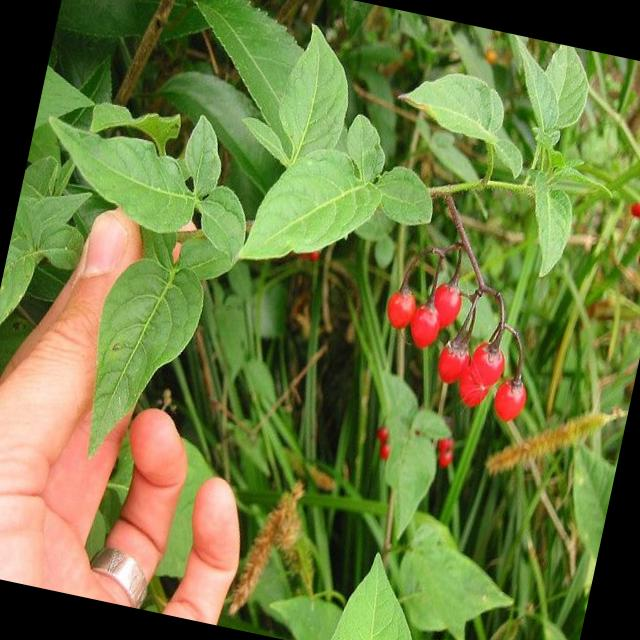Poisonous-Deadly_Nightshade: (135, 0, 472, 305), (346, 200, 592, 526)
